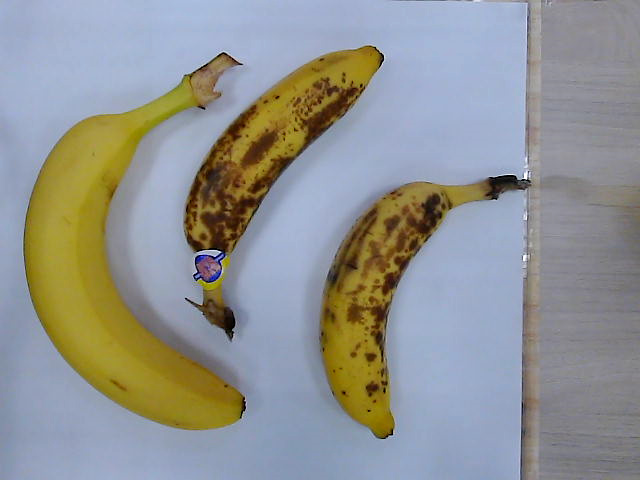fresh_banana: (22, 54, 248, 429)
rotten_banana: (187, 45, 385, 334), (321, 176, 530, 441)
